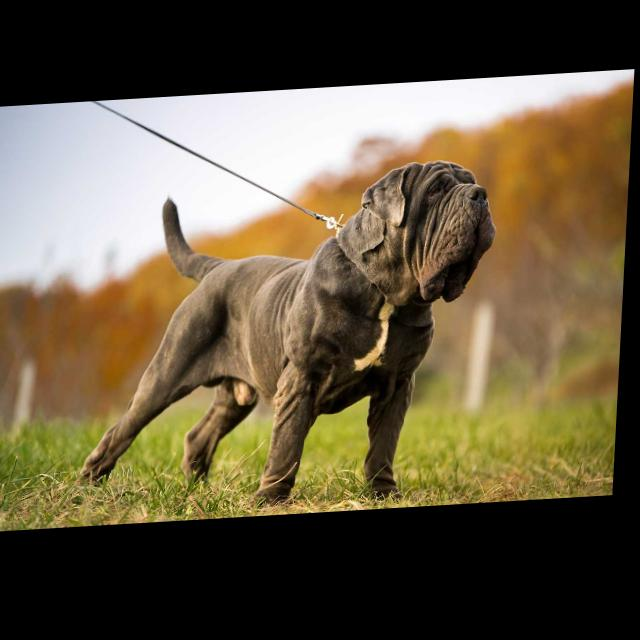mastino_napoletano: (83, 163, 503, 525)
